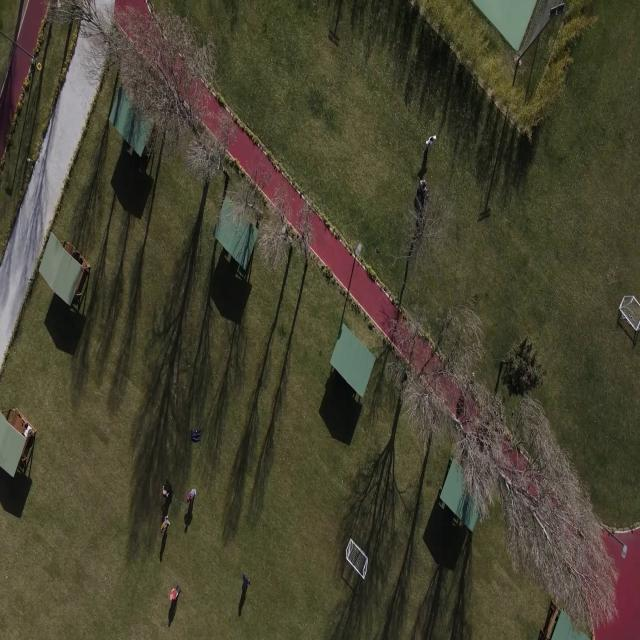vehicle: (169, 585, 181, 601), (162, 480, 173, 497), (426, 134, 437, 150), (160, 516, 170, 532), (22, 424, 33, 438), (242, 570, 250, 588), (186, 488, 196, 501), (420, 180, 428, 194)
